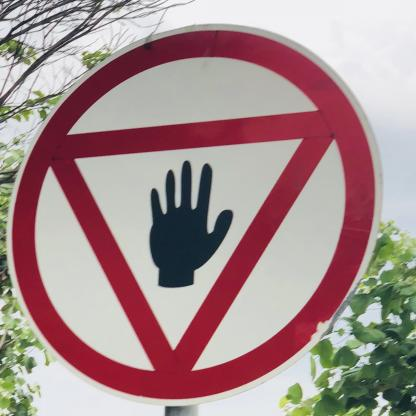Stop: (5, 24, 382, 403)
